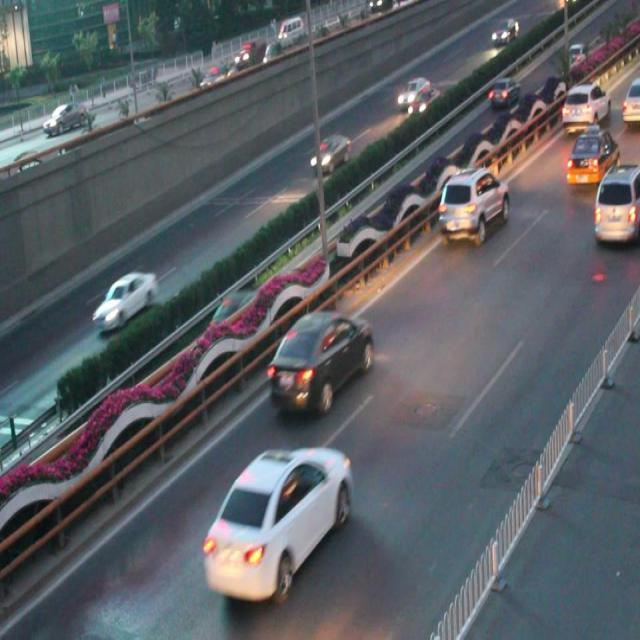car: (204, 447, 351, 598), (270, 307, 372, 416), (438, 168, 508, 245), (93, 270, 156, 328), (593, 165, 640, 239), (565, 128, 619, 186), (205, 291, 258, 336), (308, 130, 351, 175), (485, 74, 519, 110), (396, 75, 430, 110), (406, 87, 439, 119)
